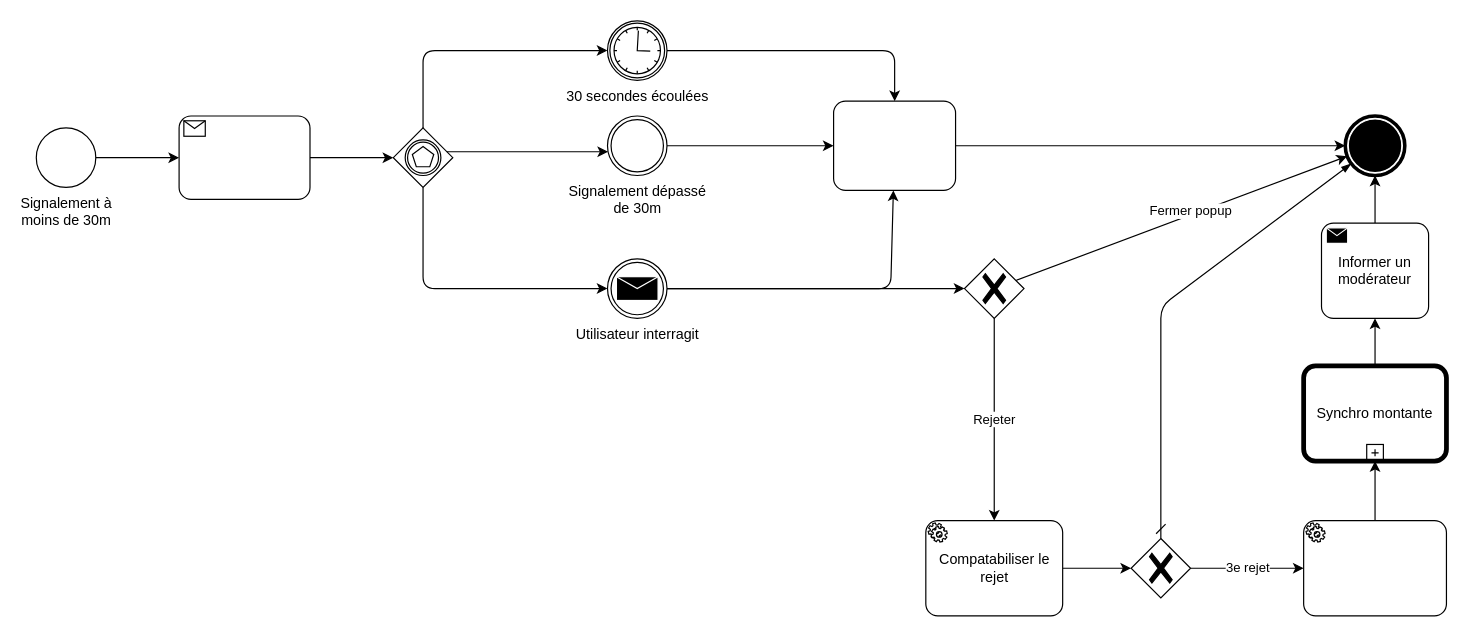
The diagram is 1467 pixels wide and 637 high, and some of its shapes have lost their labels. The shapes that lost their labels are listed below. From the top down, each one's centre as x and y in pixels, then its label:
At point 244,157: "Afficher la popup du signalement".
At point 894,145: "Effacer la pop-up".
At point 1374,567: "Supprimer l'avertissement".
